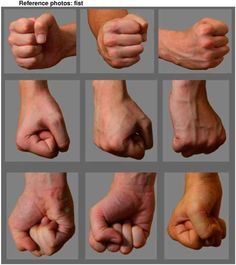fist: (10, 198, 76, 257), (93, 101, 152, 161), (93, 194, 152, 254), (169, 201, 227, 258), (10, 107, 73, 158), (9, 14, 64, 67), (171, 111, 224, 157), (100, 14, 145, 68), (189, 18, 230, 68)
